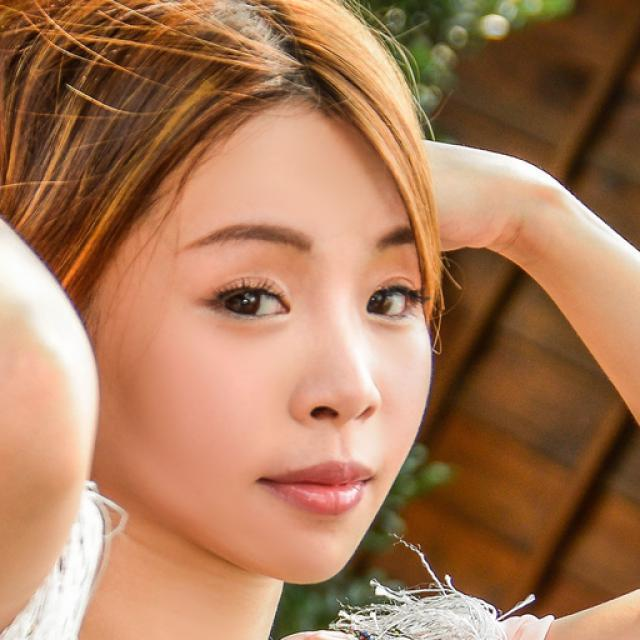neutral: (99, 106, 437, 586)
